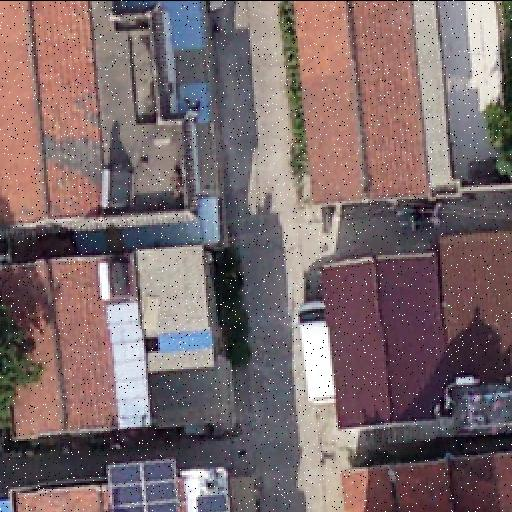solar-panel: (109, 457, 179, 511), (195, 496, 229, 512)
